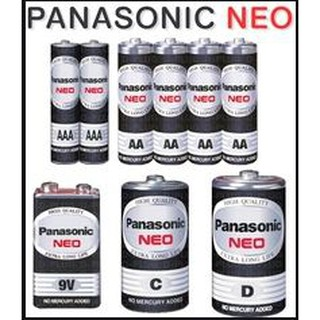Battery: (208, 167, 289, 317), (118, 170, 194, 315), (30, 179, 103, 311), (221, 35, 260, 165), (185, 35, 224, 165), (151, 35, 190, 165), (115, 35, 154, 165), (75, 36, 114, 166), (44, 35, 83, 165)
